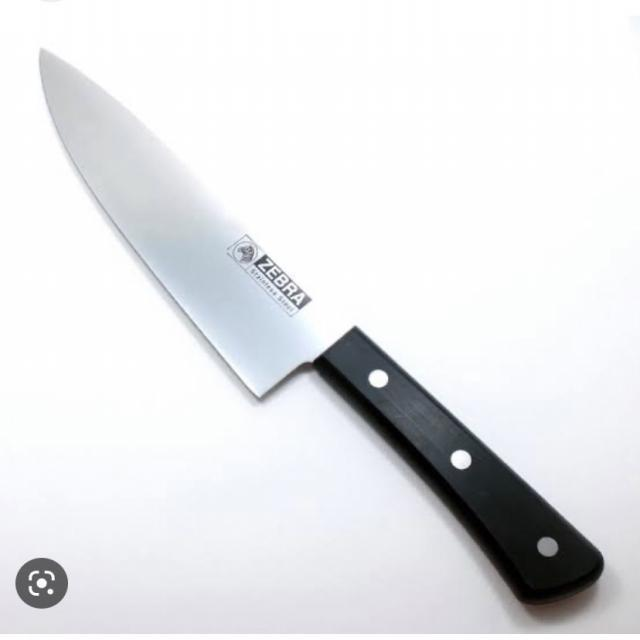Knife: (29, 40, 611, 617)
